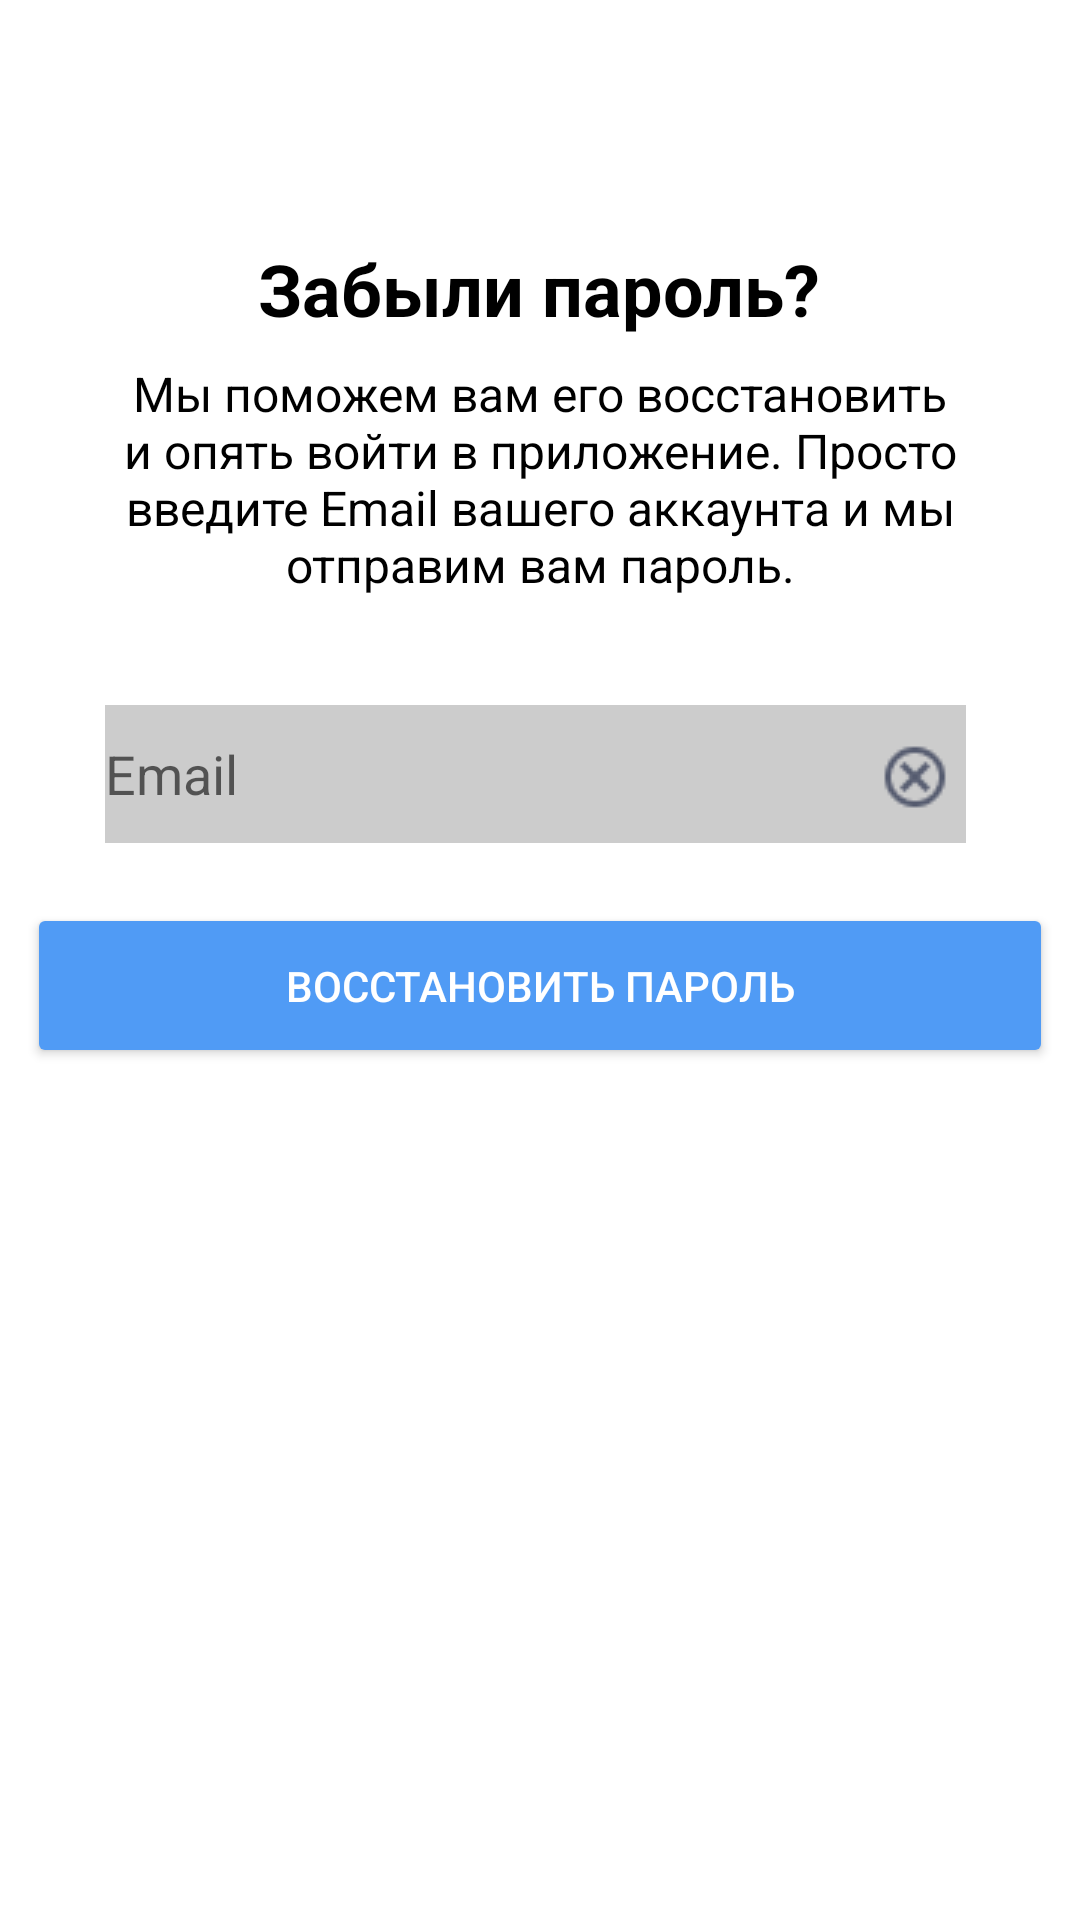

Icons on this 1080 x 1920 Android screen, each with its box as (x1, y1, x2, y2):
cancel: (884, 746, 946, 808)
